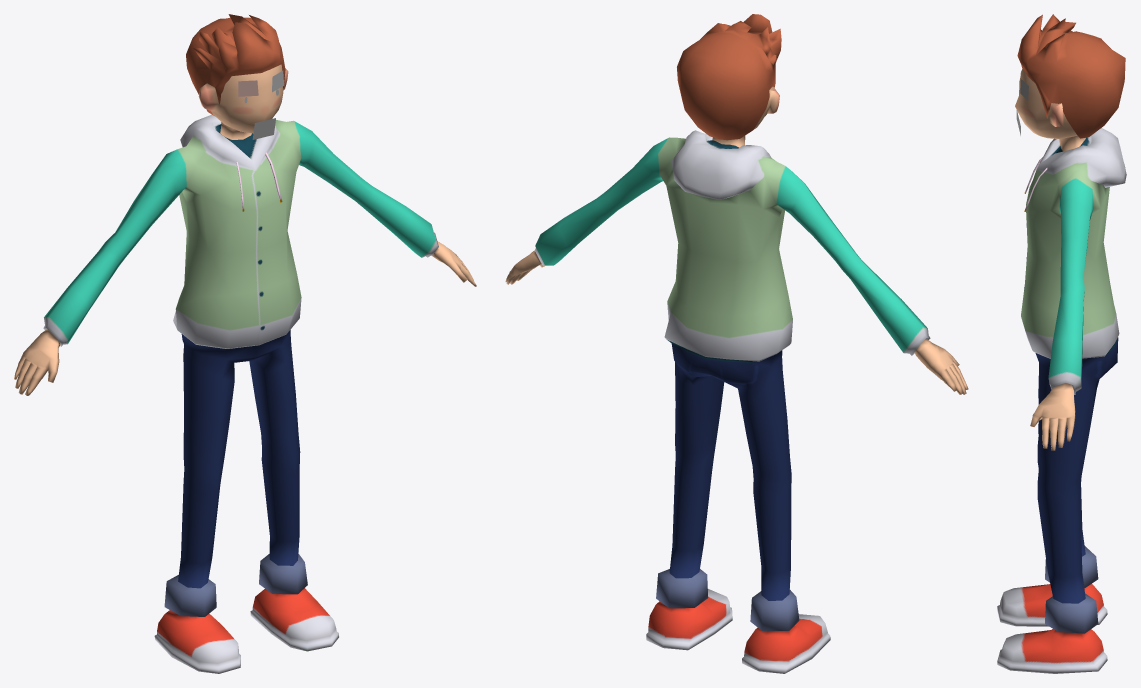
Rendered from testcharacter3.fbx.
3 renders of one model, left to right at view 1: azimuth 30°, elevation 25°; view 2: azimuth 150°, elevation 25°; view 3: azimuth 270°, elevation 25°, orthographic.
Visible parts, largest first — view 1: Mesh; view 2: Mesh; view 3: Mesh.
Boxes of the visible parts, bbox=[...] form: Mesh: bbox=[14, 14, 476, 673]; Mesh: bbox=[505, 14, 968, 673]; Mesh: bbox=[997, 14, 1126, 673].
Size of the model in its own units: 12.77 by 16.78 by 3.2.
